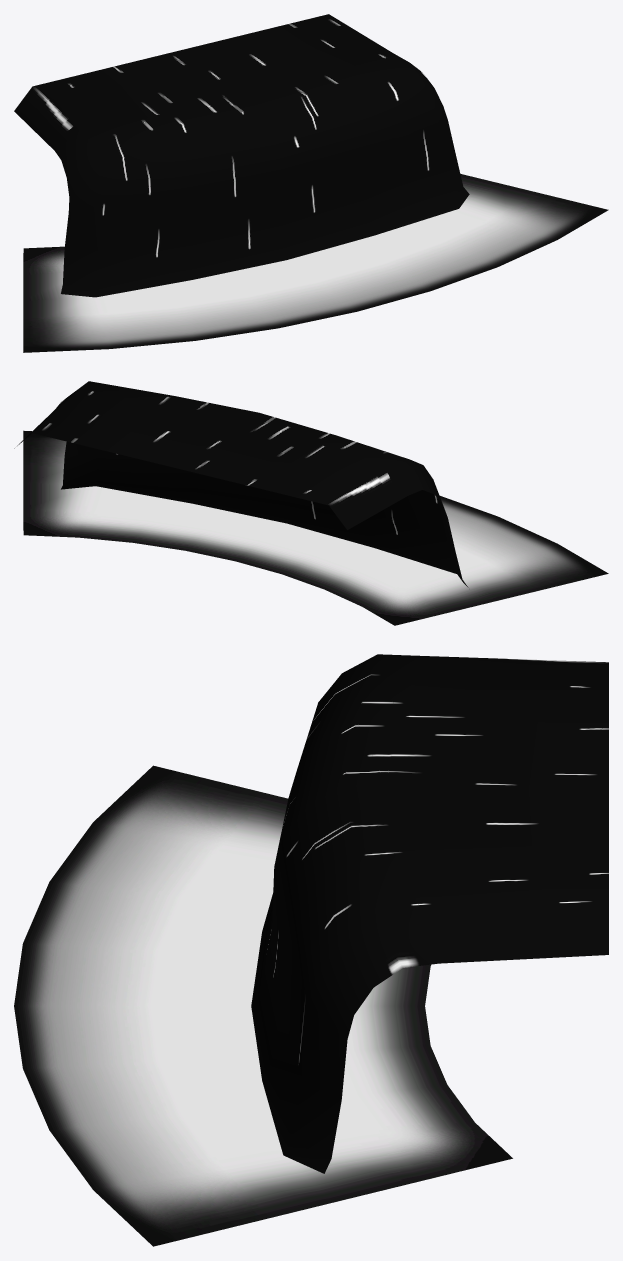
The model's file is P_Waterfall2.obj.
3 renders of one model, top to bottom at view 1: azimuth 30°, elevation 25°; view 2: azimuth 150°, elevation 25°; view 3: azimuth 270°, elevation 25°, orthographic. The views are drawn at different scales.
Bounding box in the file's own units: 17.63 × 3.8 × 9.21.
